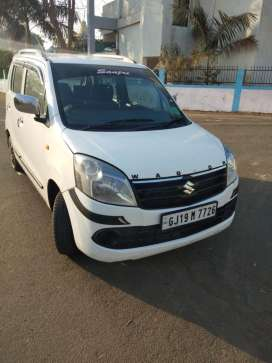license_plate: (151, 205, 231, 229)
